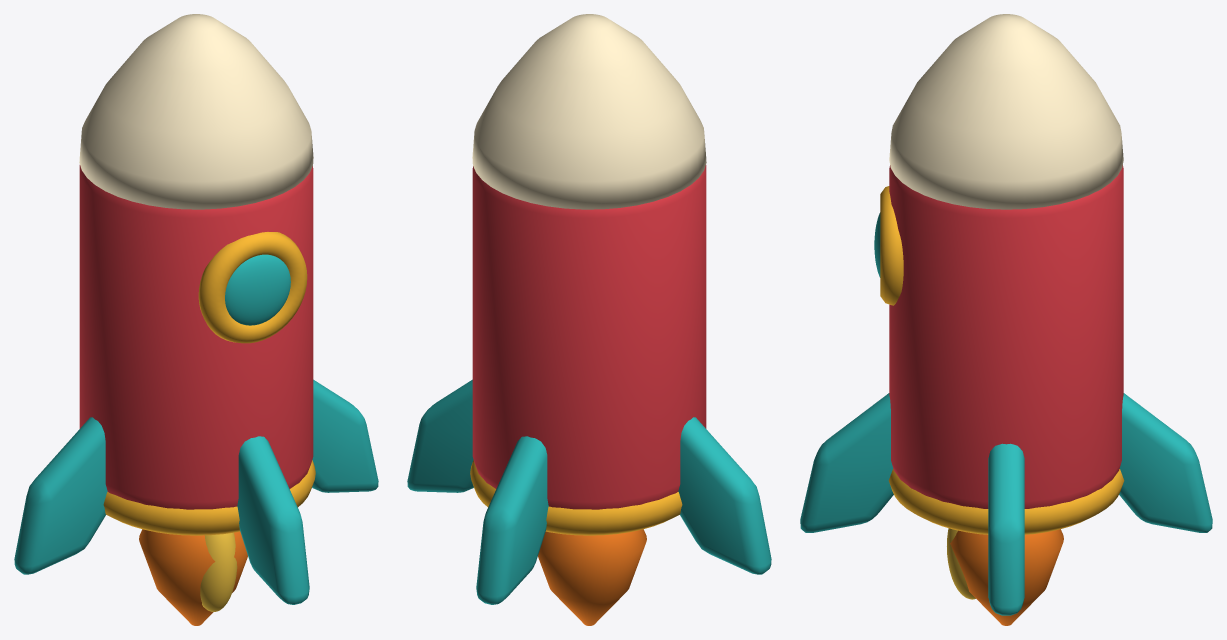
The model's file is rocket.glb.
3 views of the same model, side by side, from view 1: azimuth 30°, elevation 25°; view 2: azimuth 150°, elevation 25°; view 3: azimuth 270°, elevation 25° (orthographic).
Parts seen in each view (by area): view 1: rocket; view 2: rocket; view 3: rocket.
Part boxes in pixels (x1,y1,x2,y2): rocket: (14,14,378,625); rocket: (407,14,771,625); rocket: (800,14,1212,625).
Size of the model in its own units: 1.93 by 3.13 by 1.93.
